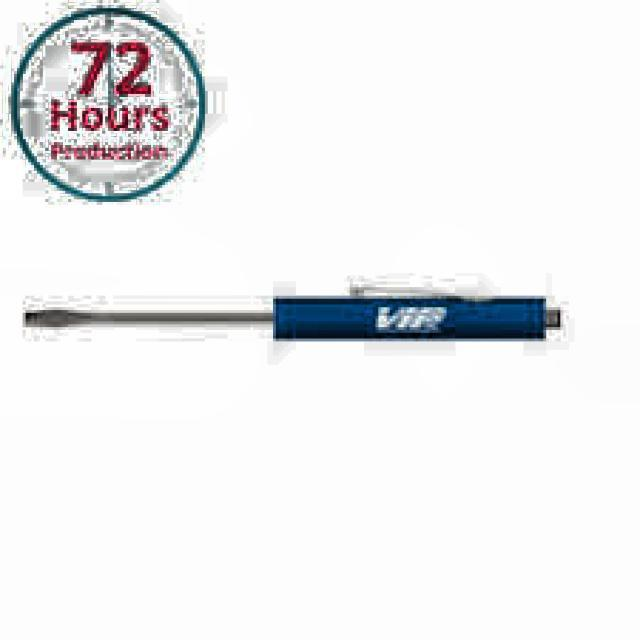screwdriver: (26, 296, 562, 340)
